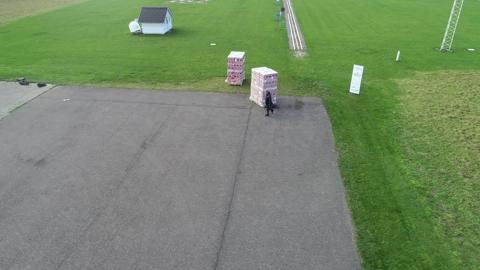RockwoolPallet: (228, 51, 246, 86)
